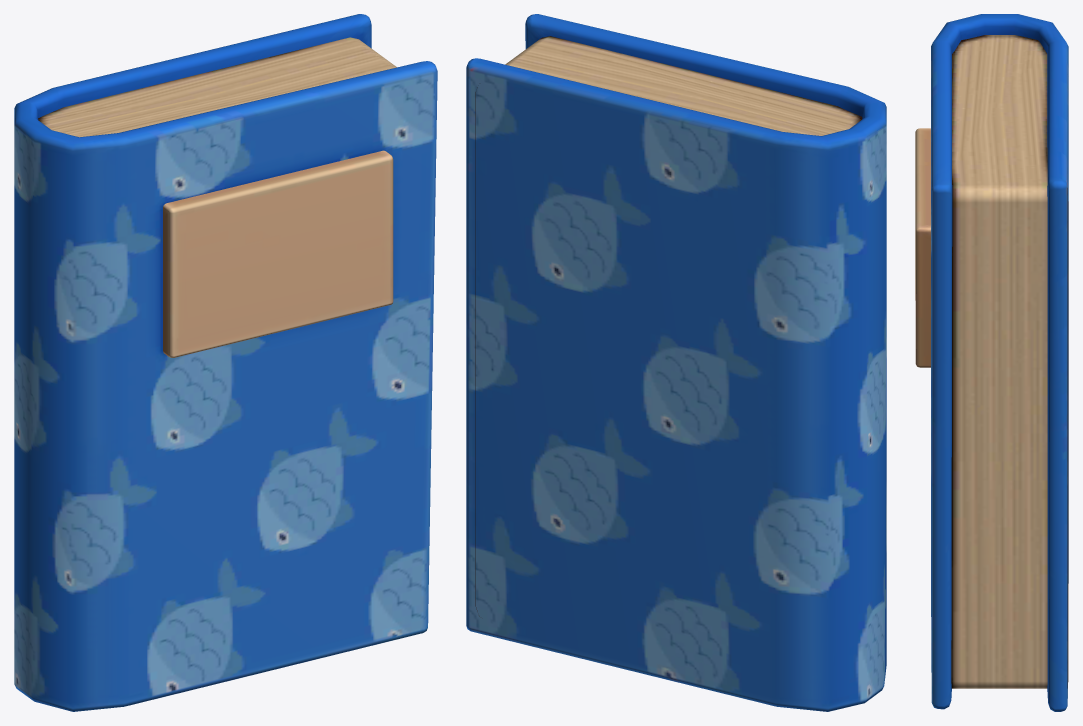
The model's file is 0-book_blue.fbx.
3 renders of one model, left to right at view 1: azimuth 30°, elevation 25°; view 2: azimuth 150°, elevation 25°; view 3: azimuth 270°, elevation 25°, orthographic. The views are drawn at different scales.
Parts seen in each view (by area): view 1: 0-book_blue; view 2: 0-book_blue; view 3: 0-book_blue.
Boxes of the visible parts, x1,y1,x2,y2 form: 0-book_blue: (14,14,437,711); 0-book_blue: (466,14,886,711); 0-book_blue: (915,14,1068,711).
Bounding box in the file's own units: 64.42 × 92.7 × 24.15.
